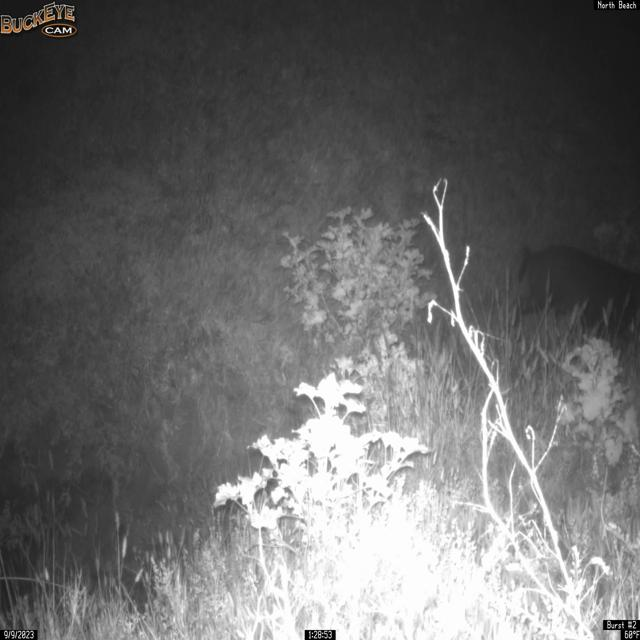pig: (505, 242, 640, 360)
